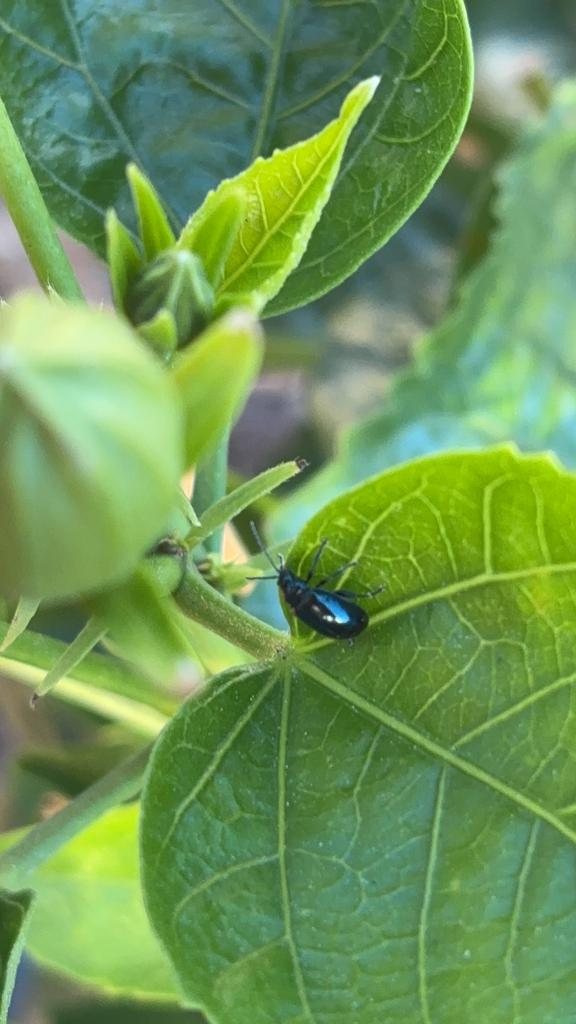flea_beetle: (232, 491, 399, 684)
